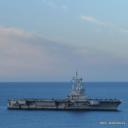Portanaves: (6, 69, 124, 113)
